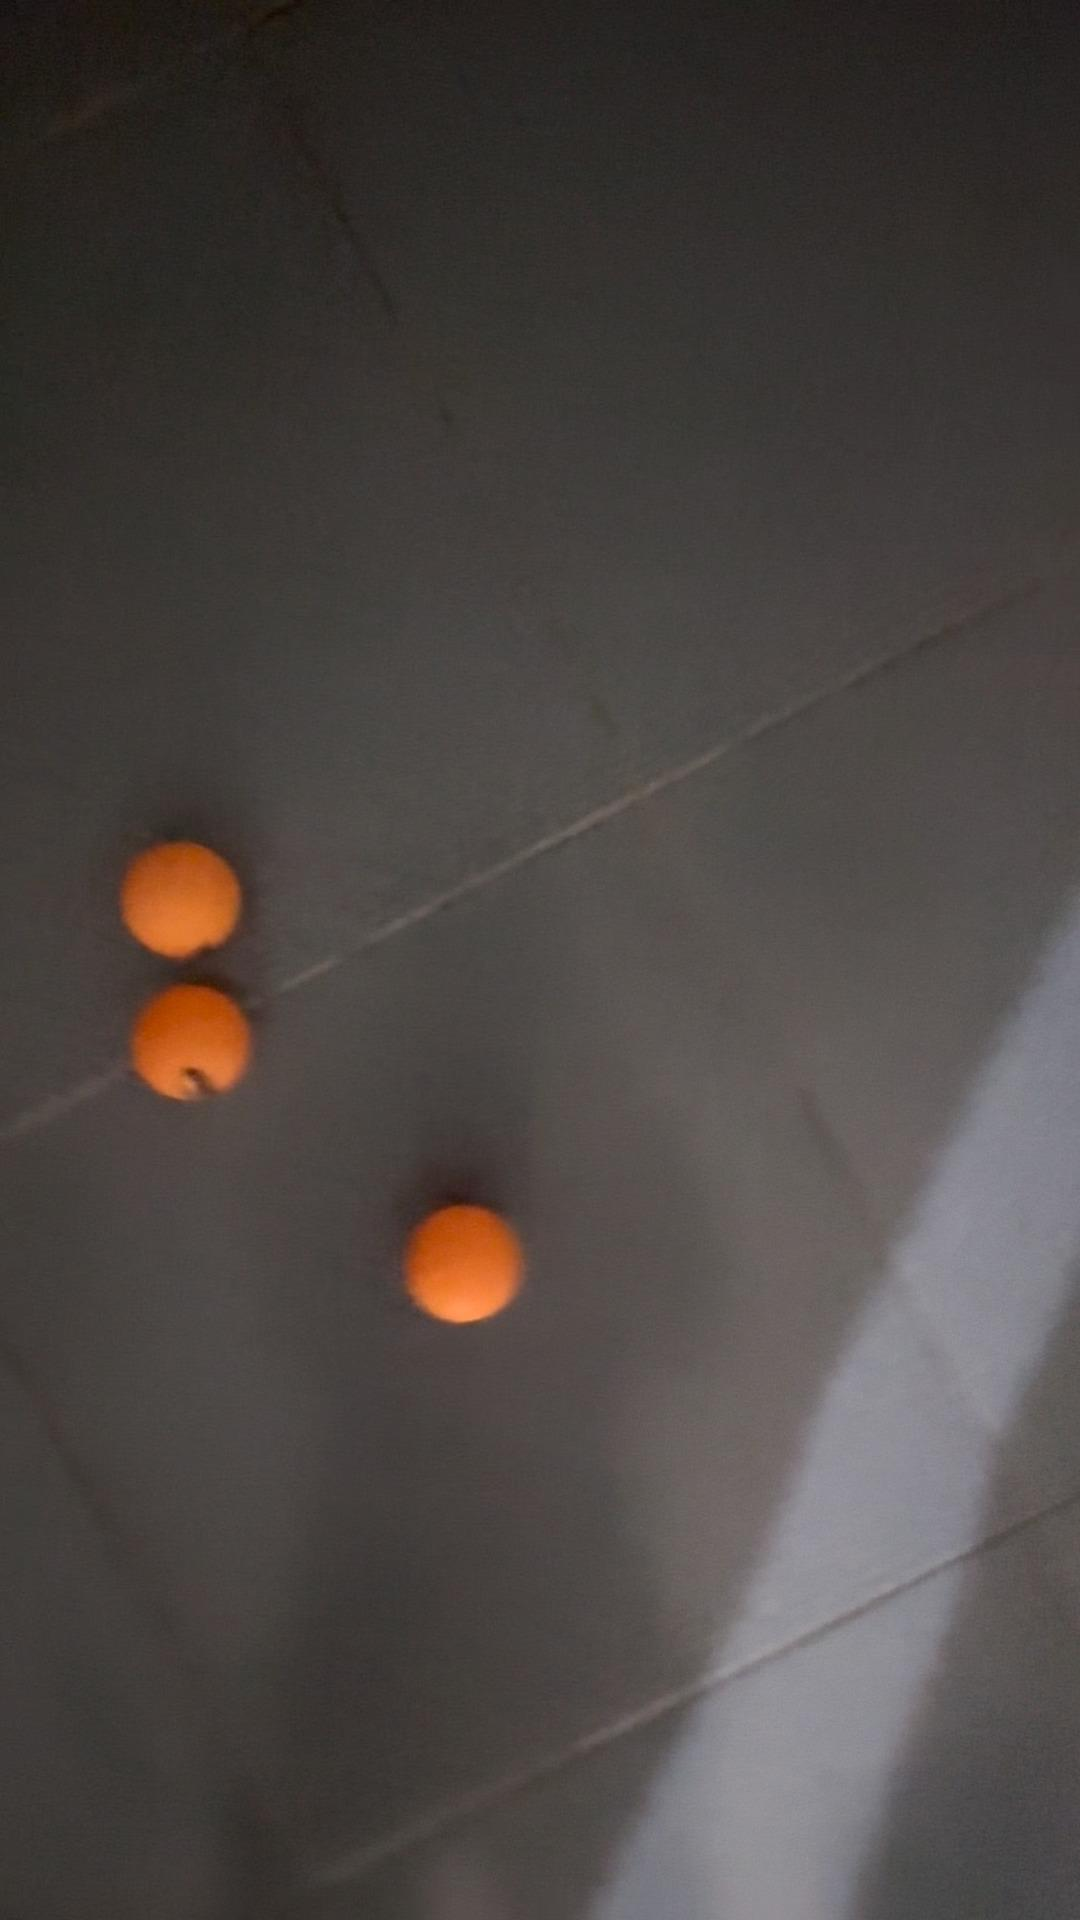oball: (392, 1197, 537, 1341), (124, 977, 264, 1106), (112, 848, 260, 967)
